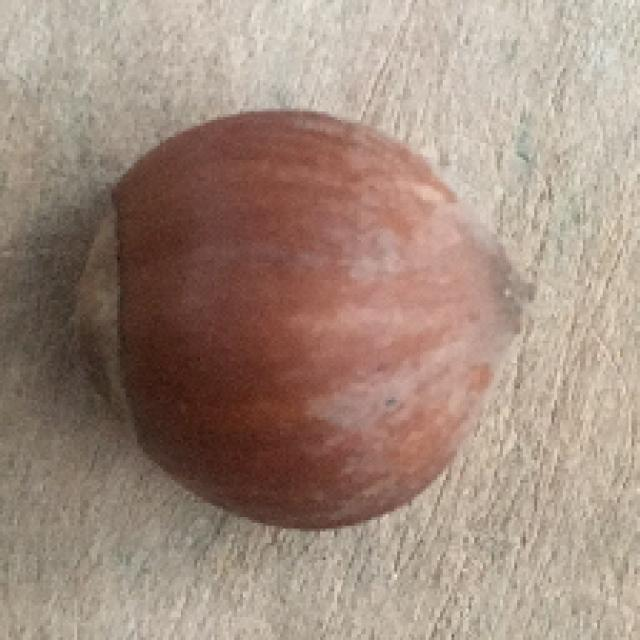qualityHazelnut: (75, 108, 538, 533)
